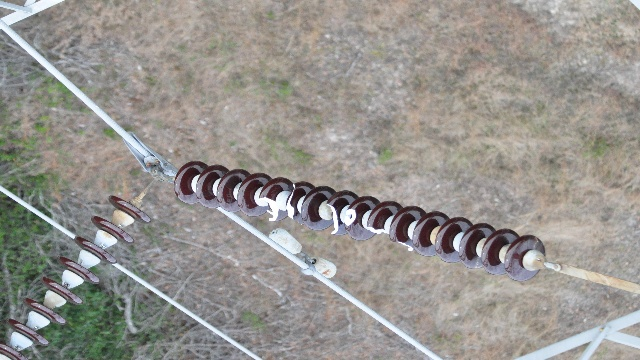broken_local: (258, 194, 280, 222), (325, 201, 339, 236), (288, 182, 299, 222), (388, 237, 413, 253), (365, 225, 390, 238), (344, 207, 356, 228)
insulator_unspecified: (175, 158, 547, 280), (1, 196, 151, 358)
